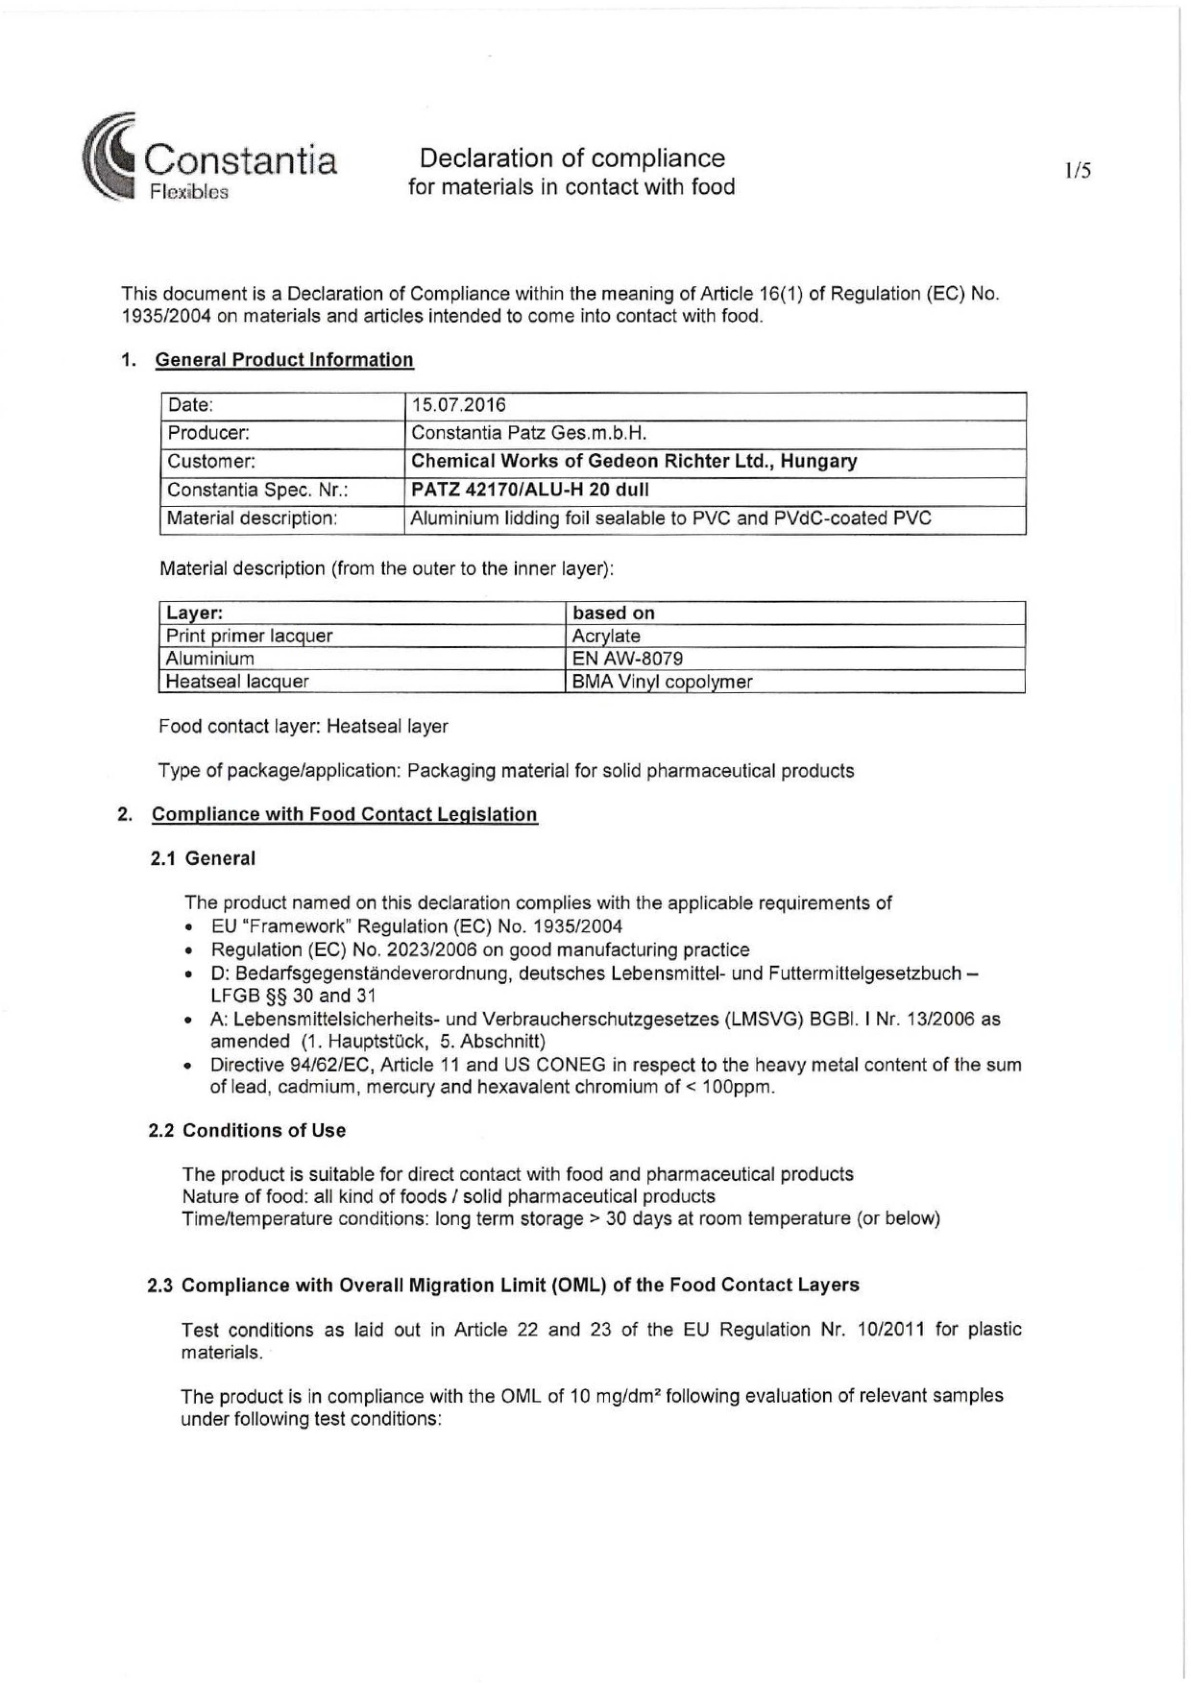full_lined: (159, 390, 1029, 536), (157, 601, 1027, 695)
